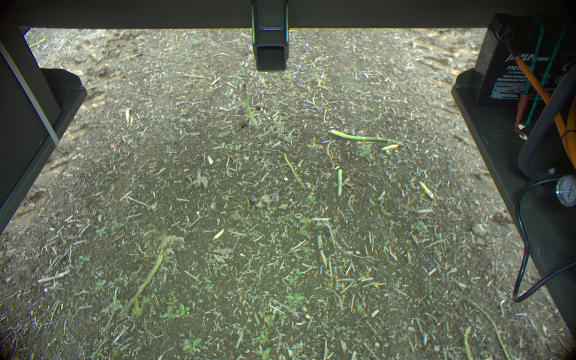aspa: (128, 248, 163, 309), (329, 128, 403, 146), (240, 81, 257, 128), (418, 179, 435, 201), (337, 165, 344, 197)
